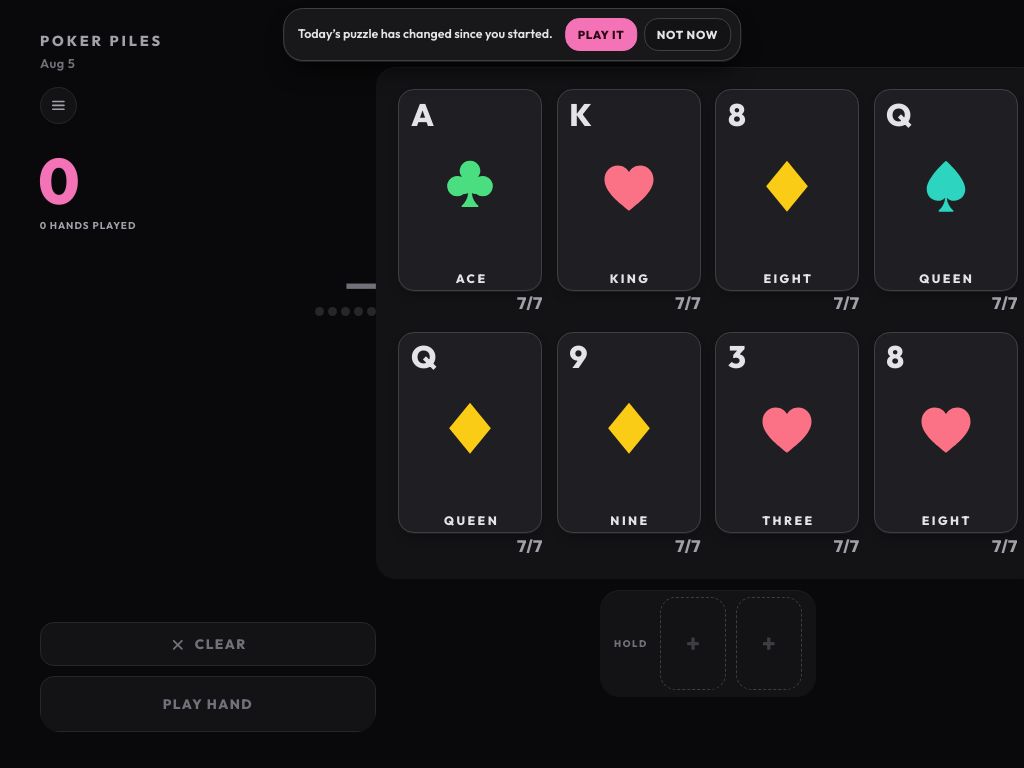
Test: App › UTC rollover (PP-6) › surfaces a banner once the date rolls over, and "Play it" swaps in the new puzzle
This screenshot has width=1024, height=768.
expect the text "Aug 5" is shown: met, box [40,55,75,71]
expect the text "Today’s puzzle has changed since you started." is shown: met, box [298,26,555,43]
What coordinates should you click on to do the following:
click the button "Play it"
I would click on:
 (601, 35)
Its box is [565,18,637,51].
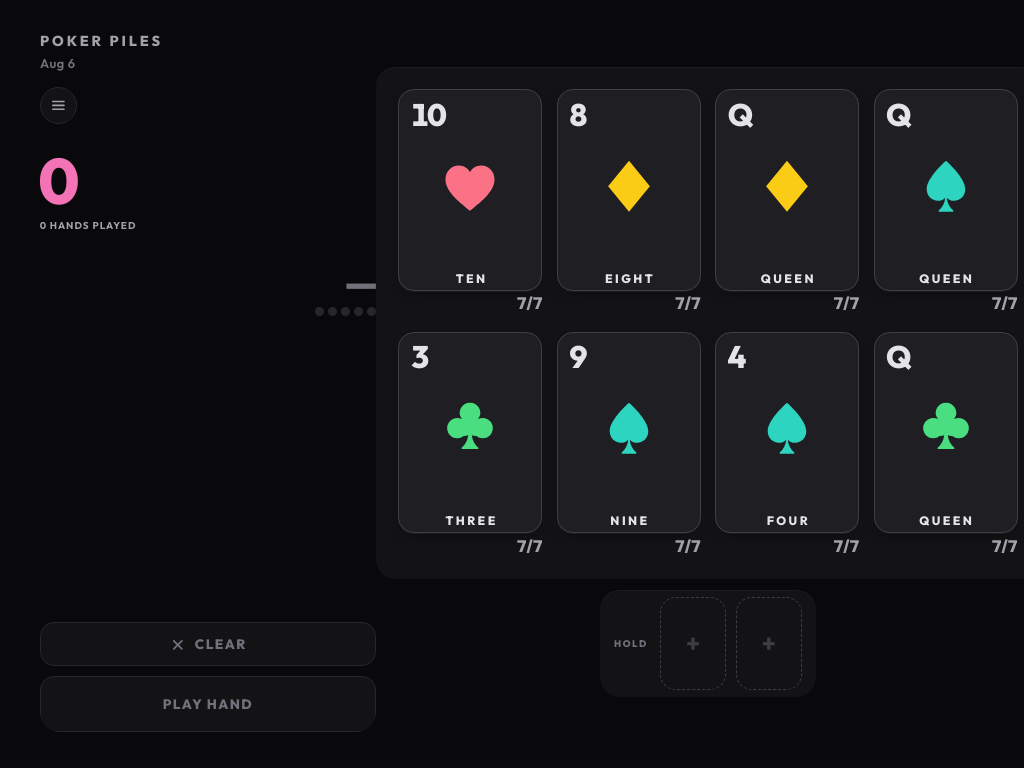
expect the text "puzzle has changed" is gone: met
expect the text "Aug 6" is shown: met, box [40,55,75,71]
